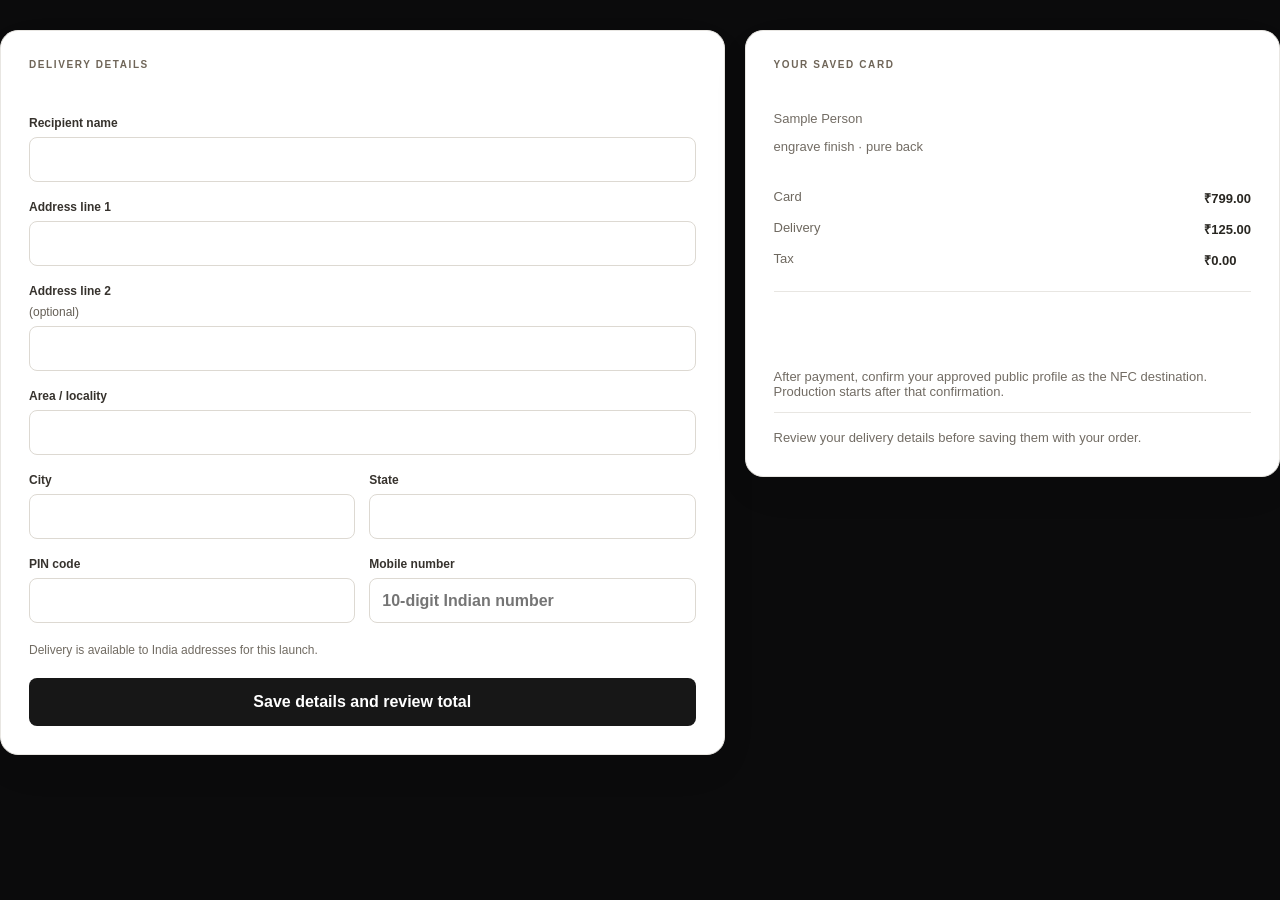
Scenario: CheckoutForm payment confirmation › requires saving delivery corrections before opening payment for the same order
Submit the form, box [0,30,724,755]
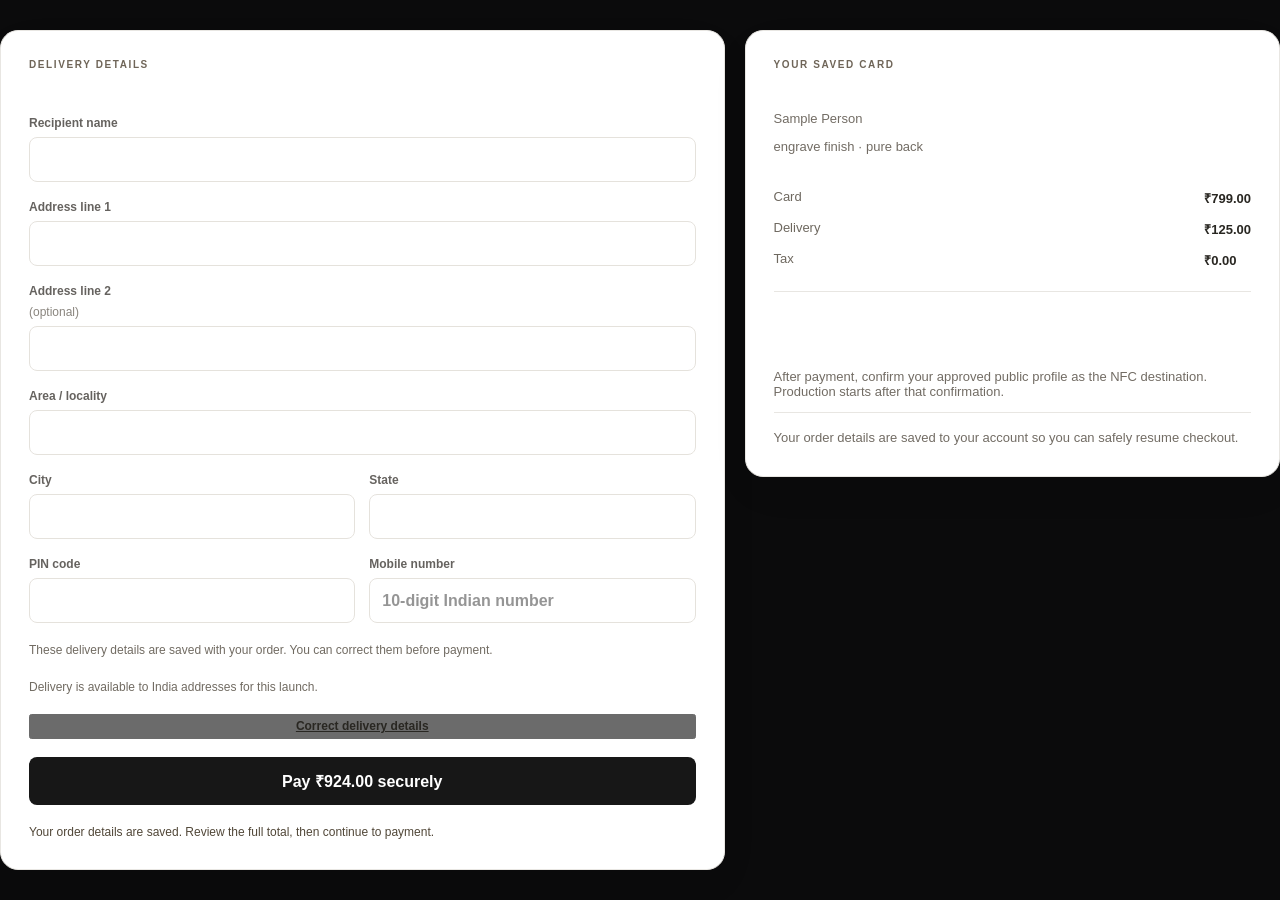
Click the button "Correct delivery details".
click(362, 726)  # box [29,714,696,739]
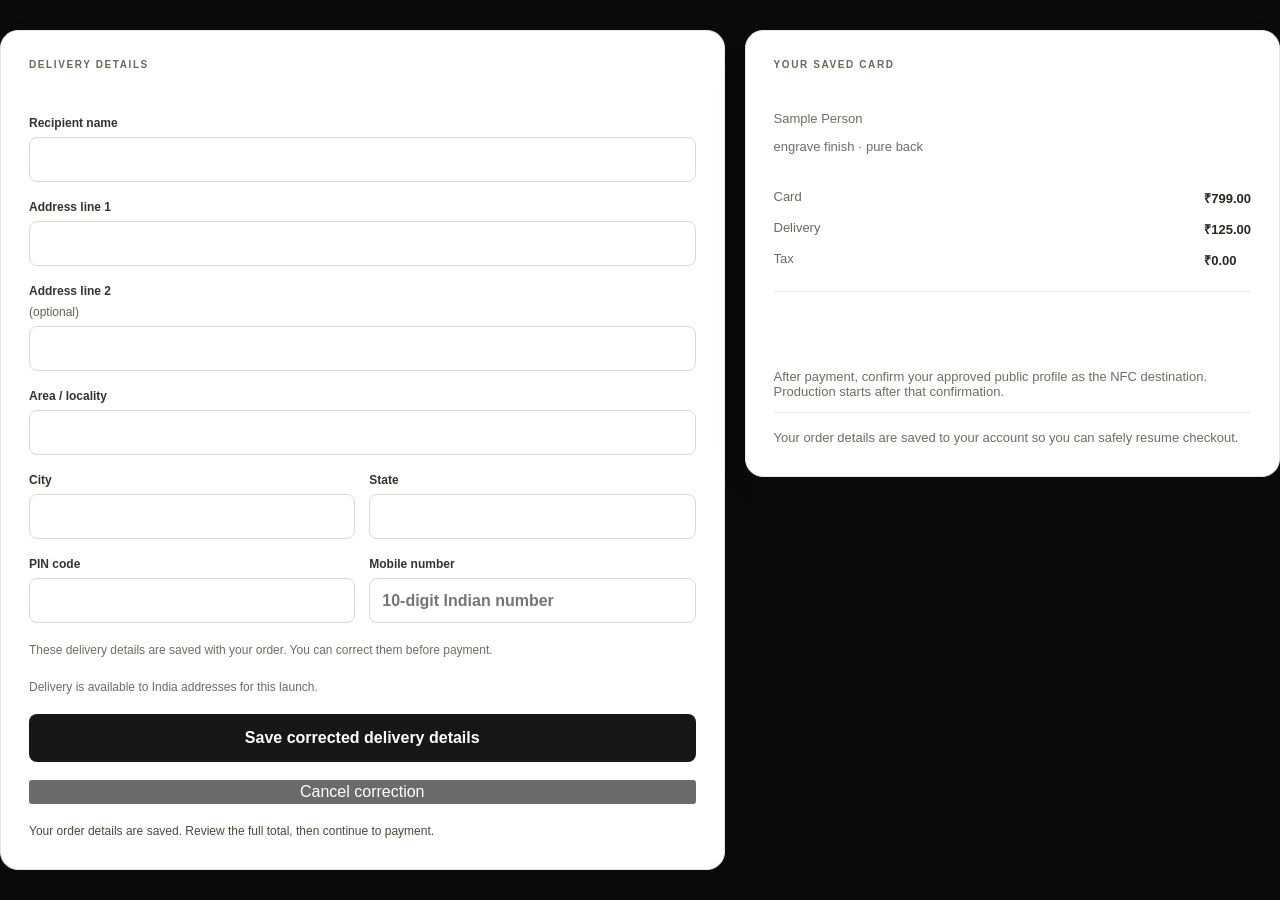
Now the element that starts with "Recipient name" is enabled, box [29,116,696,623]
Now the text "Pay ₹924.00 securely" is gone
Submit the form, box [0,30,724,870]
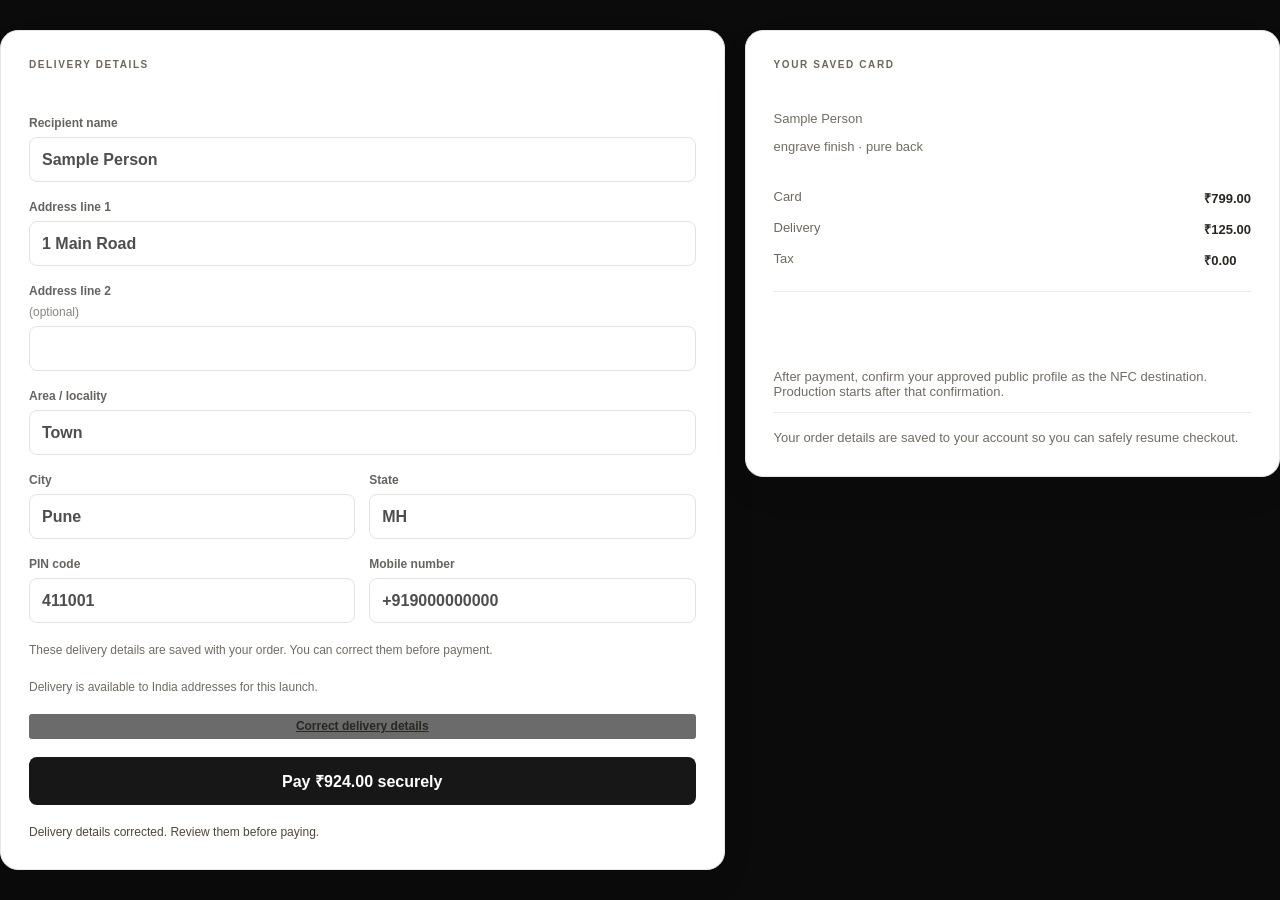
Now the element that starts with "Recipient name" is disabled, box [29,116,696,623]
Now the text "Pay ₹924.00 securely" is shown, box [29,757,696,805]
